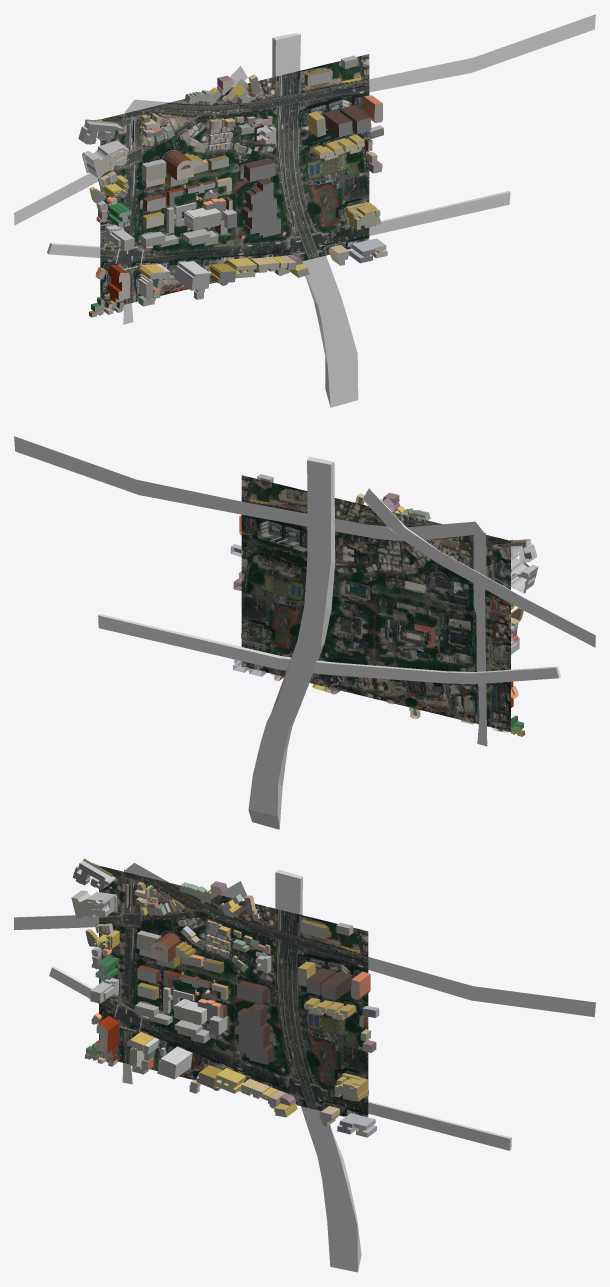
File: map.fbx
3 renders of one model, top to bottom at view 1: azimuth 30°, elevation 25°; view 2: azimuth 150°, elevation 25°; view 3: azimuth 330°, elevation 25°, orthographic.
Parts seen in each view (by area): view 1: Terrain, None_buildings, 立方體.001, 立方體.002, 立方體, 立方體.004; view 2: Terrain, 立方體.001, 立方體.002, 立方體, None_buildings, 立方體.004, 立方體.003; view 3: Terrain, None_buildings, 立方體.001, 立方體.002, 立方體, 立方體.004.
Part boxes in pixels (x1,y1,x2,y2): Terrain: (100,54,369,307); None_buildings: (78,55,387,317); 立方體.001: (272,33,358,407); 立方體.002: (126,14,595,110); 立方體: (47,191,510,257); 立方體.004: (14,66,247,225); Terrain: (241,475,510,731); 立方體.001: (248,456,335,829); 立方體.002: (14,436,484,540); 立方體: (98,614,560,684); None_buildings: (230,474,538,736); 立方體.004: (362,488,595,647); 立方體.003: (473,533,487,746); Terrain: (99,866,368,1117); None_buildings: (71,858,379,1137); 立方體.001: (275,869,361,1272); 立方體.002: (126,863,595,1017); 立方體: (49,966,511,1150); 立方體.004: (14,881,246,929).
Bounding box in the file's own units: 139247 × 87166 × 8812.
